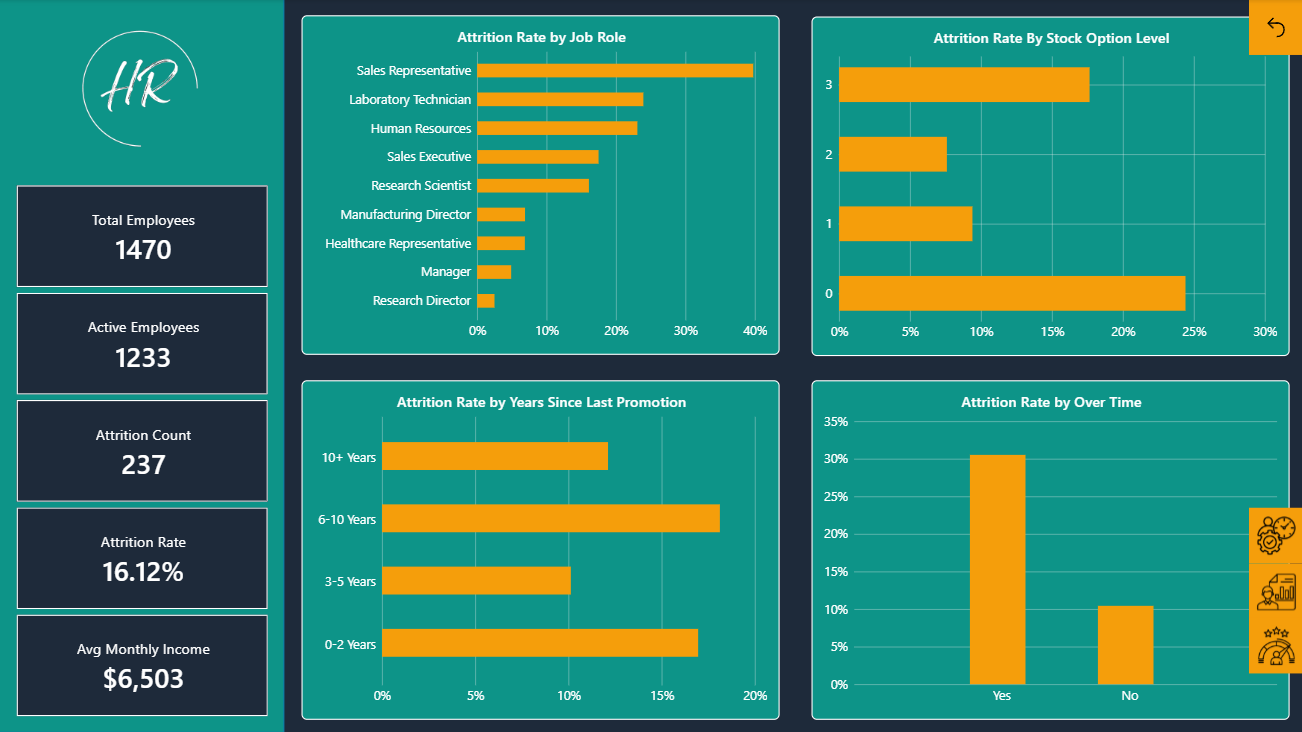

This screenshot's page, from the dashboard's own definition file:
{"tool":"powerbi","page":{"name":"Attrition Overview","canvas":[1920,1080],"ordinal":0},"visuals":[{"type":"shape","box":[0,0,420,1080],"z":0},{"type":"actionButton","box":[1840,750,80,82.5],"z":0,"group":"g1"},{"type":"cardVisual","fields":{"Data":["_Measures.Total Employees","_Measures.Active Employees","_Measures.Attrition Count","_Measures.Attrition Rate","_Measures.Avg Monthly Income"]},"box":[25,275,370,785],"z":1000},{"type":"actionButton","box":[1840,832.5,80,82.5],"z":1000,"group":"g1"},{"type":"image","box":[0,0,420,274],"z":2000},{"type":"actionButton","box":[1840,912,80,82],"z":2000,"group":"g1"},{"type":"clusteredBarChart","title":"Attrition Rate by Years Since Last Promotion","fields":{"Category":["HR_Employee_Attrition.Since_Last_Promotion"],"Y":["_Measures.Attrition Rate"]},"box":[446,562,704,500],"z":3000},{"type":"clusteredBarChart","title":"Attrition Rate By Stock Option Level","fields":{"Category":["HR_Employee_Attrition.StockOptionLevel"],"Y":["_Measures.Attrition Rate"]},"box":[1196,26,704,500],"z":4000},{"type":"clusteredBarChart","title":"Attrition Rate by Job Role","fields":{"Category":["HR_Employee_Attrition.JobRole"],"Y":["_Measures.Attrition Rate"]},"box":[446,24,704,500],"z":6000},{"type":"clusteredColumnChart","title":"Attrition Rate by Over Time","fields":{"Category":["HR_Employee_Attrition.OverTime"],"Y":["_Measures.Attrition Rate"]},"box":[1196,562,704,500],"z":7000},{"type":"group","id":"g1","title":"Group 1","box":[1840,750,80,244],"z":8000},{"type":"actionButton","box":[1840,0,80,82.5],"z":8500}]}

Visuals, with their boxes in screenshot pixels (x1, y1, x2, y2), scaled from the page's 1920x1080 canvas onto the 1302x732 screenshot:
shape: <bbox>0, 0, 285, 731</bbox>
actionButton: <bbox>1248, 508, 1301, 564</bbox>
cardVisual - _Measures.Total Employees x _Measures.Active Employees: <bbox>17, 186, 268, 718</bbox>
actionButton: <bbox>1248, 564, 1301, 620</bbox>
image: <bbox>0, 0, 285, 186</bbox>
actionButton: <bbox>1248, 618, 1301, 674</bbox>
"Attrition Rate by Years Since Last Promotion" clusteredBarChart: <bbox>302, 381, 780, 720</bbox>
"Attrition Rate By Stock Option Level" clusteredBarChart: <bbox>811, 18, 1288, 357</bbox>
"Attrition Rate by Job Role" clusteredBarChart: <bbox>302, 16, 780, 355</bbox>
"Attrition Rate by Over Time" clusteredColumnChart: <bbox>811, 381, 1288, 720</bbox>
"Group 1" group: <bbox>1248, 508, 1301, 674</bbox>
actionButton: <bbox>1248, 0, 1301, 56</bbox>
